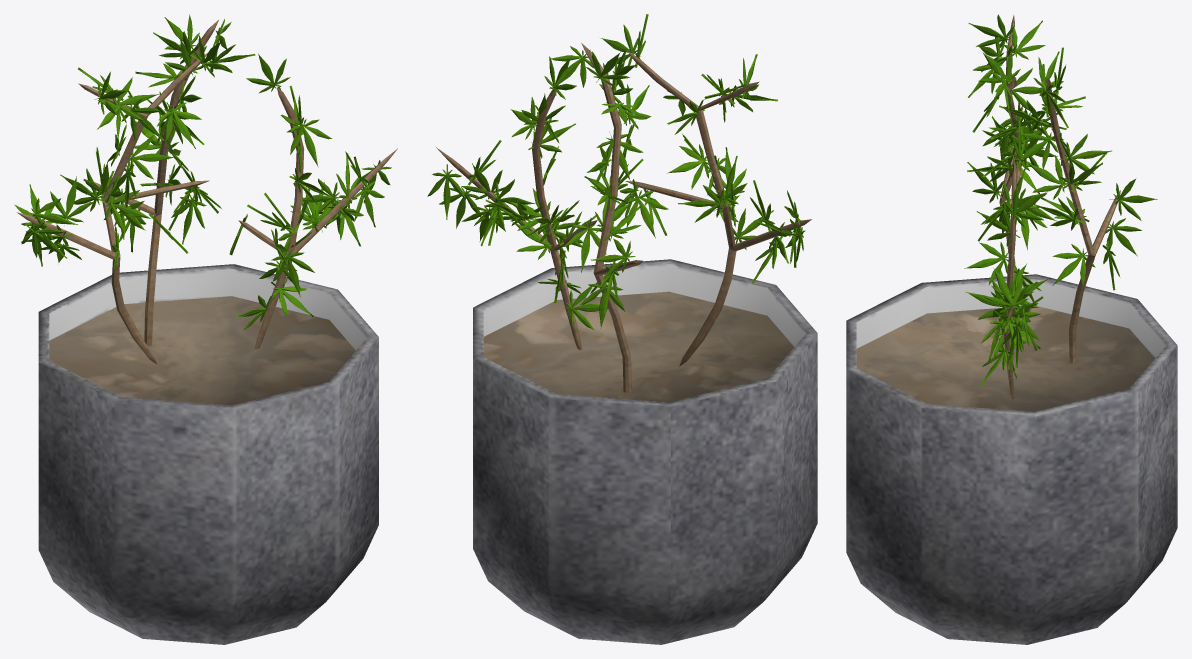
The model's file is coke.obj.
3 views of the same model, side by side, from view 1: azimuth 30°, elevation 25°; view 2: azimuth 150°, elevation 25°; view 3: azimuth 270°, elevation 25° (orthographic). The views are drawn at different scales.
Parts seen in each view (by area): view 1: pot, leaves, plantation; view 2: pot, leaves, plantation; view 3: pot, leaves, plantation.
Boxes of the visible parts, x1,y1,x2,y2 form: pot: (38,264,378,644); leaves: (14,14,391,330); plantation: (17,20,397,364); pot: (473,259,817,644); leaves: (427,14,805,330); plantation: (436,43,811,392); pot: (846,274,1177,644); leaves: (964,14,1157,385); plantation: (999,15,1120,399).
Bounding box in the file's own units: 1.1 × 1.57 × 0.8599.
4 materials, 4 textured.
